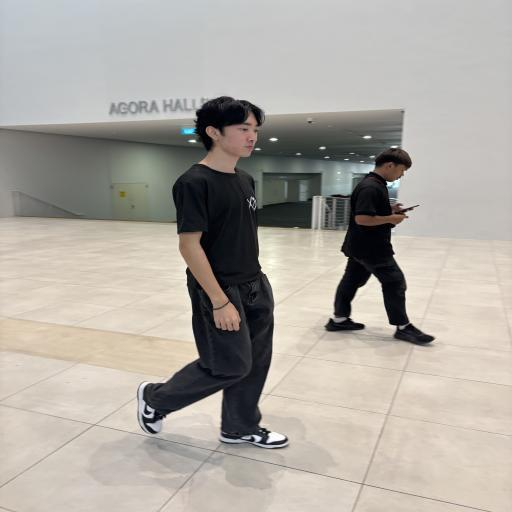person_right: (123, 82, 297, 460), (325, 130, 472, 354)
